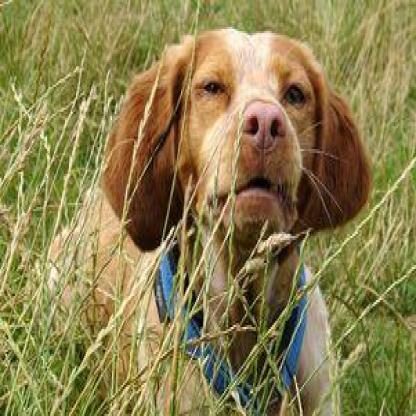Brittany_spaniel: (37, 23, 368, 412)
